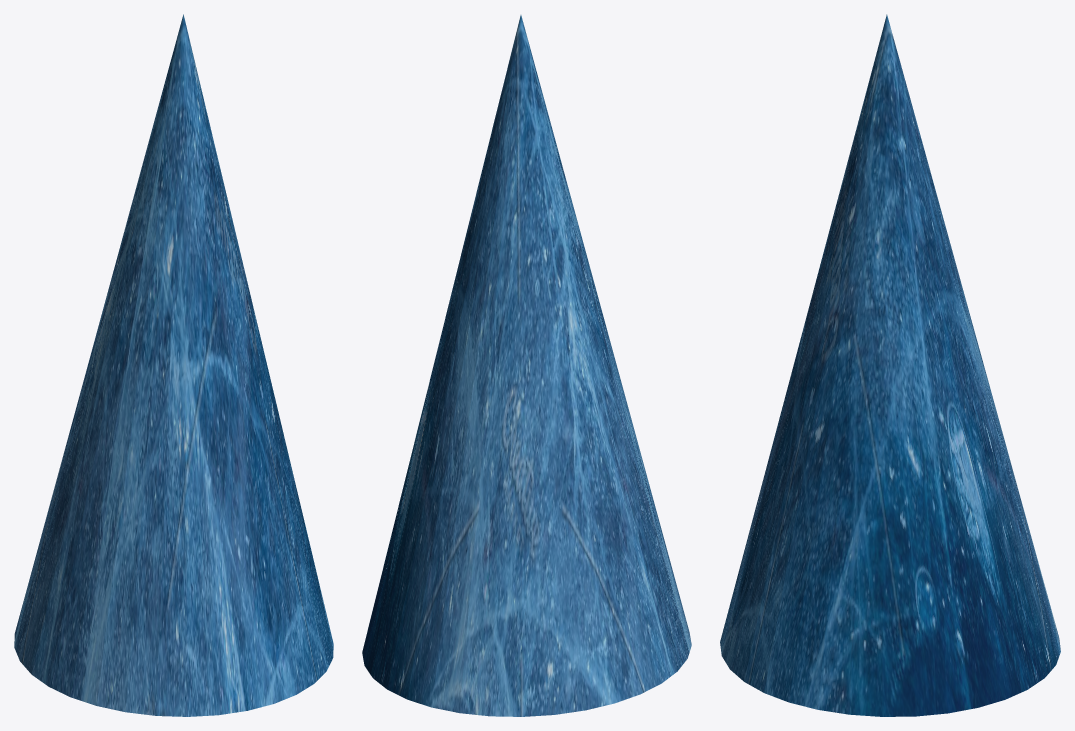
Rendered from Pico_P.obj.
3 views of the same model, side by side, from view 1: azimuth 30°, elevation 25°; view 2: azimuth 150°, elevation 25°; view 3: azimuth 270°, elevation 25° (orthographic).
Parts seen in each view (by area): view 1: Cono.011; view 2: Cono.011; view 3: Cono.011.
Boxes of the visible parts, x1,y1,x2,y2 form: Cono.011: (14, 14, 333, 716); Cono.011: (362, 15, 691, 716); Cono.011: (720, 14, 1060, 716).
Size of the model in its own units: 0.4555 by 0.996 by 0.4818.
